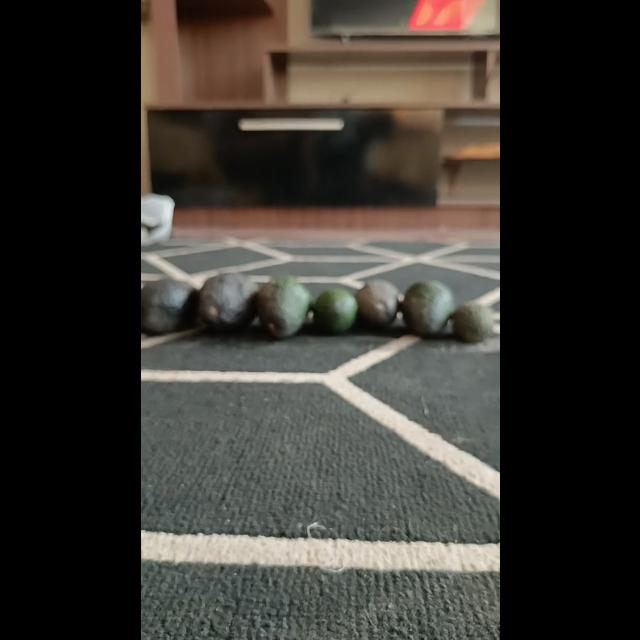Primera: (196, 272, 260, 332), (255, 275, 309, 337), (140, 277, 192, 333)
Segunda: (400, 278, 454, 336), (353, 278, 401, 329), (310, 286, 356, 334)
Tercera: (447, 301, 495, 344)
